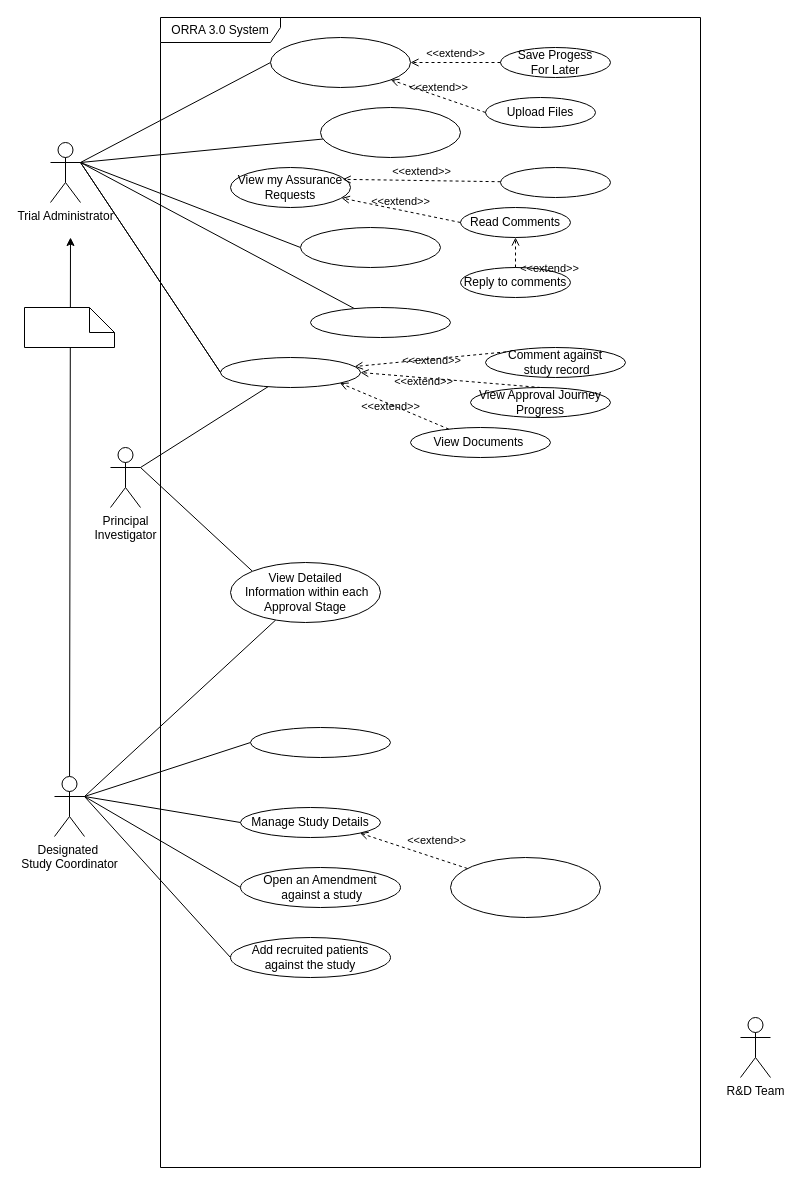
Image size: 801x1185. Some labels were removed from this diagram. Here are the shapes that lost their labels. From the top down, the centre of each, then its label:
(340,62): Create a Study Assurance Request
(390,132): Submit a completed Assurance Request
(555,182): Track Progress
(370,247): View Study Record of Accepted Requests
(69,327): Actor generalisation
(380,322): Search for Studies
(290,372): View Study Details
(320,742): View Costing for Study
(525,887): Upload Files / Manage Study Document
